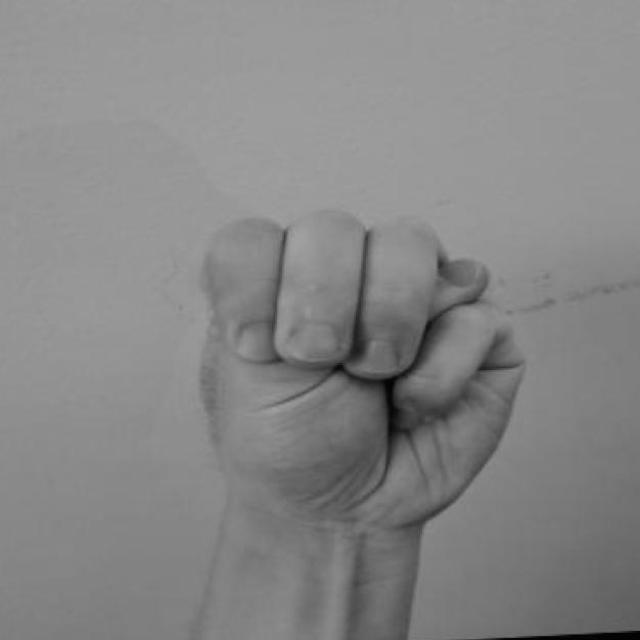M: (187, 193, 533, 578)
